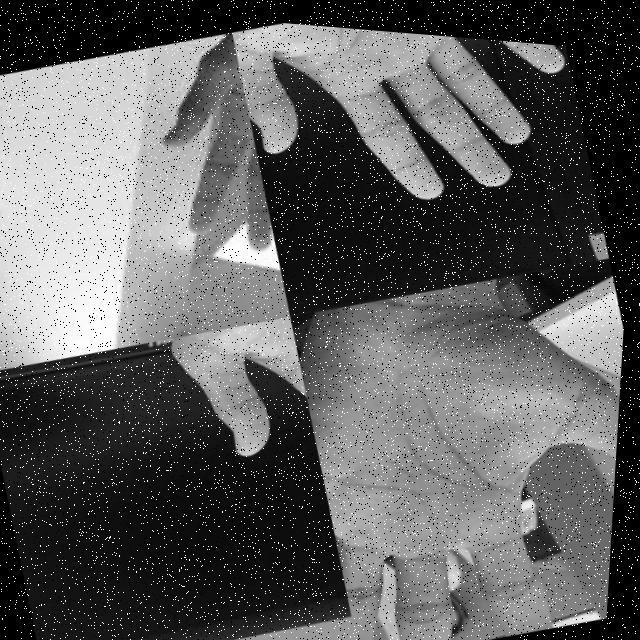hand: (277, 226, 630, 640), (221, 15, 597, 247), (107, 299, 344, 553), (114, 21, 288, 274)
